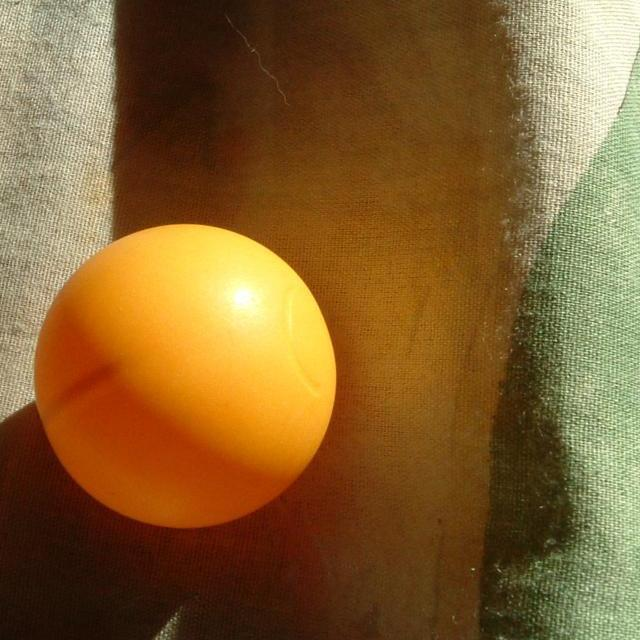ping-pong-ball: (34, 221, 338, 532)
